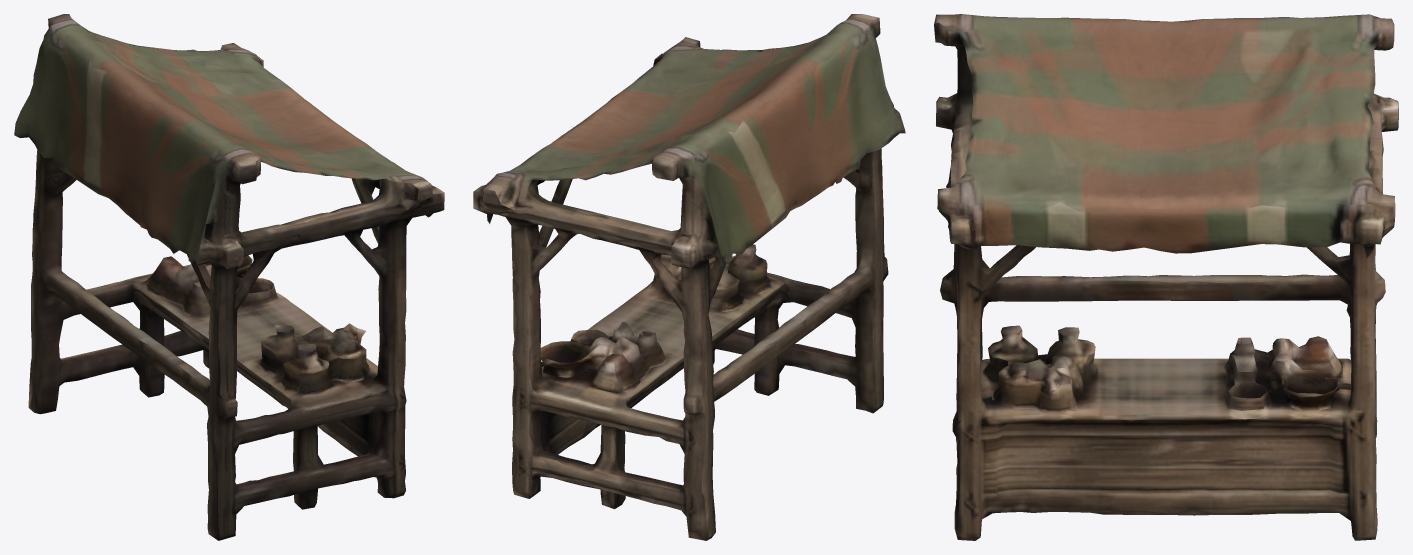
Rendered from market_stall_a.glb.
The picture shows the model from 3 angles, left to right: view 1: azimuth 30°, elevation 25°; view 2: azimuth 150°, elevation 25°; view 3: azimuth 270°, elevation 25°; orthographic projection. The views are drawn at different scales.
Visible parts, largest first — view 1: Market Stall; view 2: Market Stall; view 3: Market Stall.
Part boxes in pixels (x1,y1,x2,y2): Market Stall: [14, 14, 444, 540]; Market Stall: [473, 14, 905, 540]; Market Stall: [934, 14, 1398, 540].
Size of the model in its own units: 1.49 by 2.2 by 2.13.
1 material, 1 textured.
